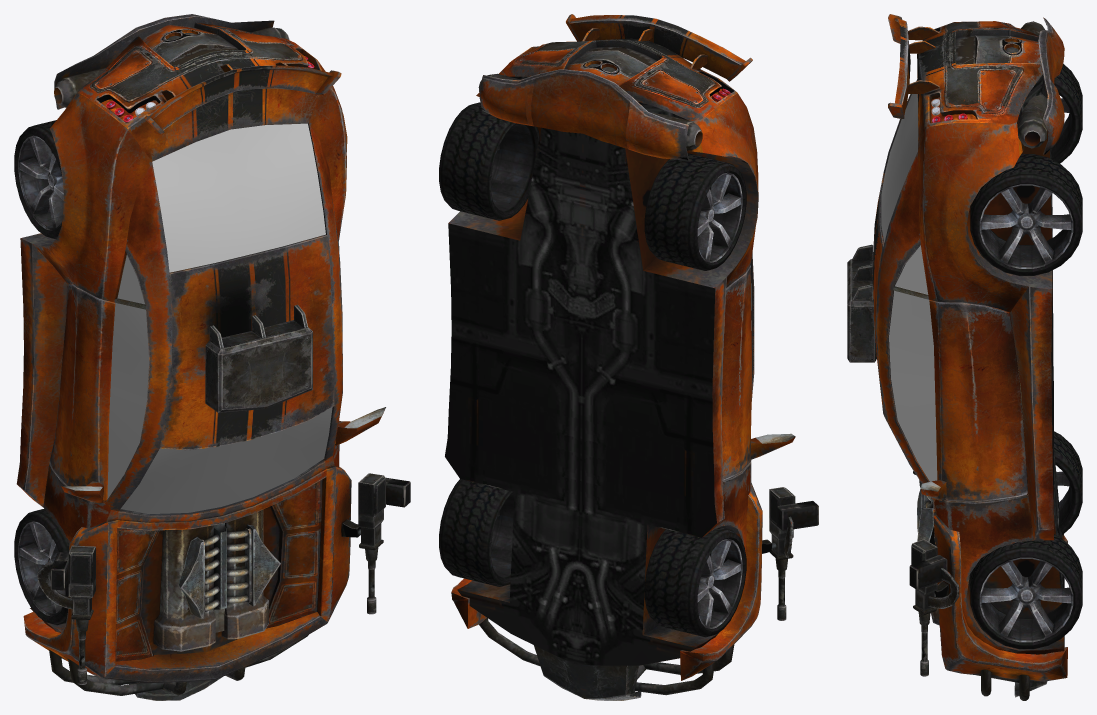
The model's file is Dodge.obj.
3 views of the same model, side by side, from view 1: azimuth 30°, elevation 25°; view 2: azimuth 150°, elevation 25°; view 3: azimuth 270°, elevation 25° (orthographic). The views are drawn at different scales.
Parts seen in each view (by area): view 1: The_Duke; view 2: The_Duke; view 3: The_Duke.
Boxes of the visible parts, x1=… form: The_Duke: x1=14, y1=14, x2=410, y2=700; The_Duke: x1=439, y1=14, x2=818, y2=700; The_Duke: x1=847, y1=14, x2=1082, y2=700.
Size of the model in its own units: 4.18 by 7.49 by 2.45.
Materials: 4 (3 with a texture image).
